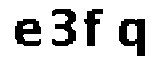3: (48, 6, 78, 51)
e: (11, 17, 44, 48)
f: (83, 5, 106, 51)
q: (116, 17, 153, 60)
